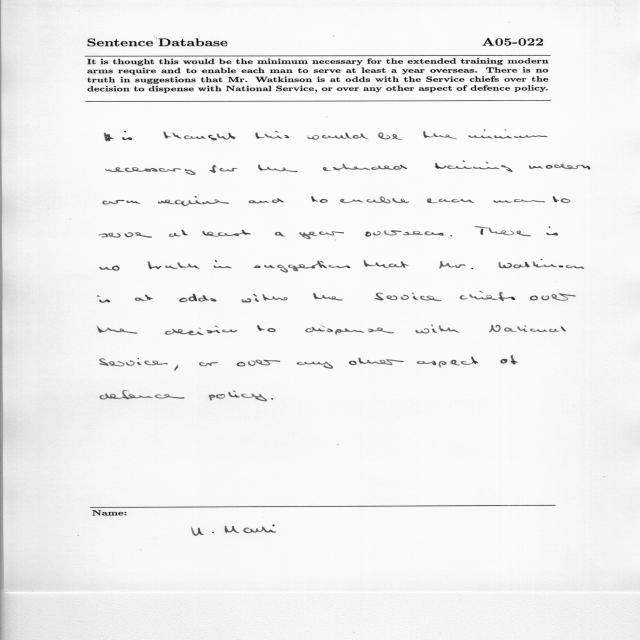word: (254, 261, 351, 273), (435, 161, 513, 172), (499, 259, 584, 269), (305, 326, 394, 335), (100, 390, 185, 399), (468, 130, 548, 139), (106, 167, 196, 175), (158, 196, 229, 206), (323, 163, 407, 171), (163, 132, 236, 141), (165, 326, 237, 335), (209, 391, 267, 402), (417, 357, 478, 367), (475, 227, 531, 237), (365, 230, 444, 237), (460, 291, 515, 301), (100, 358, 168, 366), (489, 325, 566, 332), (375, 293, 441, 301), (340, 197, 409, 204), (308, 133, 369, 140), (242, 294, 288, 303), (148, 262, 199, 270), (416, 325, 459, 334), (349, 358, 404, 365), (530, 293, 576, 301), (529, 164, 590, 170), (299, 232, 344, 240), (364, 260, 409, 268), (202, 230, 251, 237), (98, 326, 138, 334), (99, 232, 152, 238), (180, 294, 217, 302), (259, 165, 298, 172), (255, 131, 289, 139), (423, 131, 457, 139), (439, 261, 473, 269), (237, 360, 280, 366), (297, 362, 333, 369), (427, 198, 474, 203), (209, 165, 238, 173), (313, 293, 343, 300), (493, 199, 545, 203), (378, 132, 403, 140), (249, 199, 284, 204), (501, 356, 518, 365), (103, 200, 140, 204), (214, 260, 232, 268), (169, 230, 188, 237), (257, 325, 276, 332), (311, 196, 328, 203), (553, 196, 570, 203), (546, 227, 558, 236), (135, 295, 153, 301), (100, 266, 120, 271), (199, 362, 218, 367), (98, 296, 111, 303), (122, 131, 132, 140), (104, 133, 114, 141), (275, 232, 285, 237), (174, 364, 178, 371), (450, 235, 452, 237), (271, 398, 273, 400)
